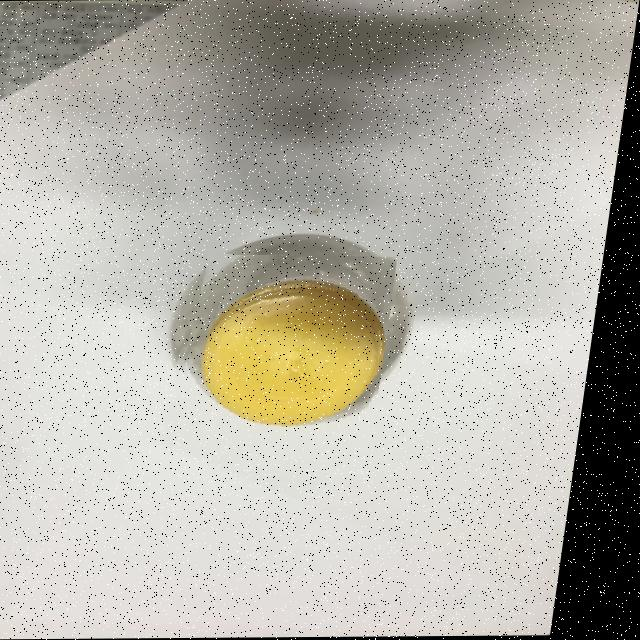litter: (177, 252, 406, 444)
